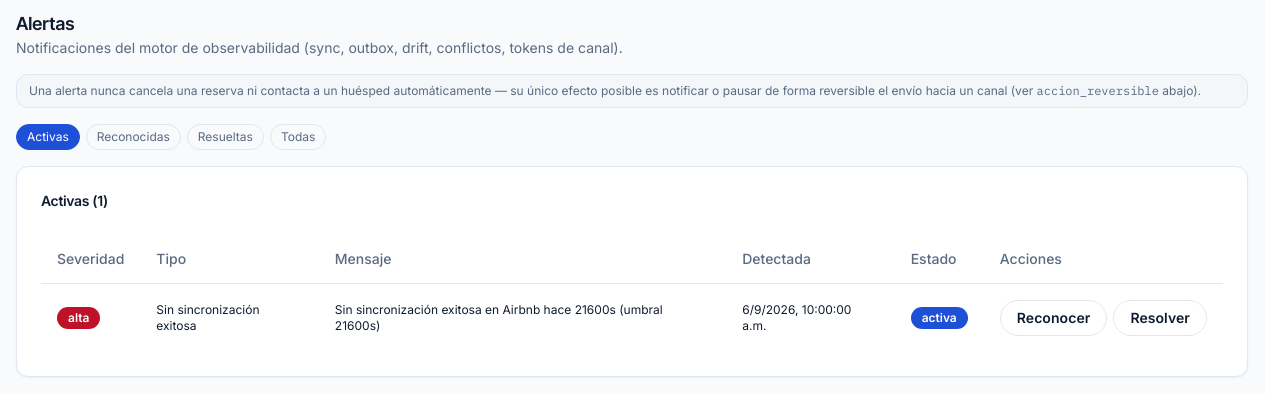
Test: AlertasPage — corrección P-02 (producto-ux-operacion.md) › cambiar el filtro a Resueltas muestra el estado vacío honesto
Check: the text "Sin sincronización exitosa en Airbnb" is shown, box [335,302,663,332]
Click the button "Resueltas" at (225, 137), box [187,124,264,150]
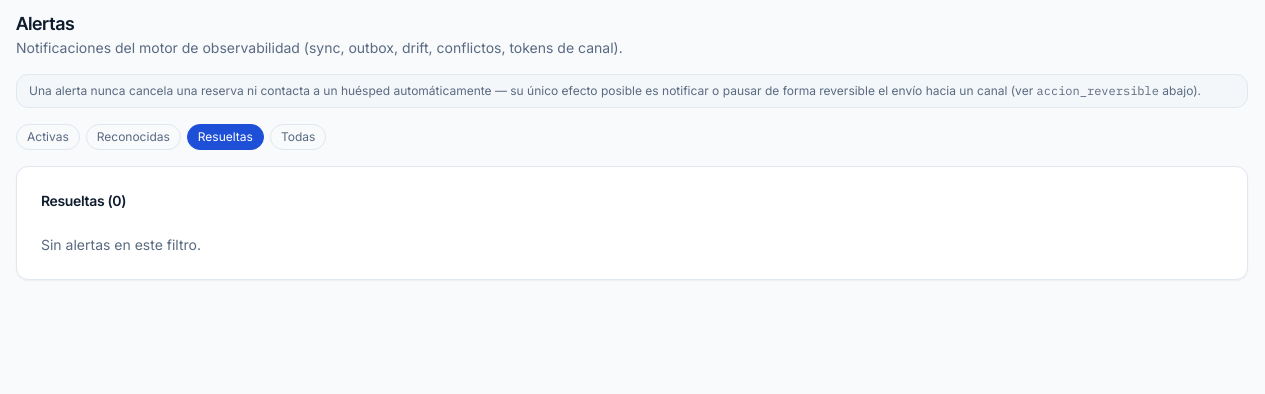
Check: the text "Sin alertas en este filtro." is shown, box [41,236,201,253]
